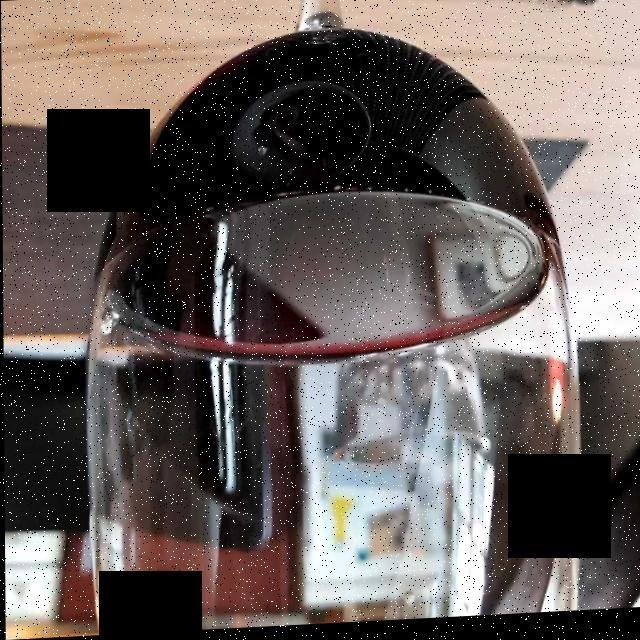wine: (91, 27, 554, 365)
